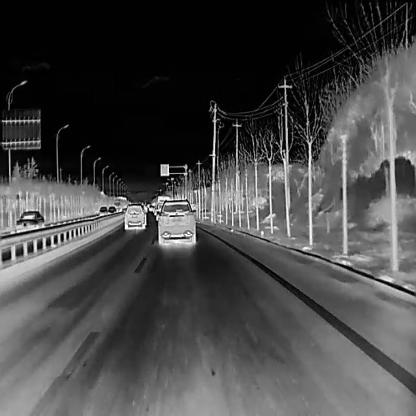car: (154, 198, 196, 245), (14, 209, 45, 238), (122, 203, 146, 229), (154, 201, 164, 220), (106, 205, 116, 216), (98, 206, 107, 218)
truck: (112, 200, 121, 212)
